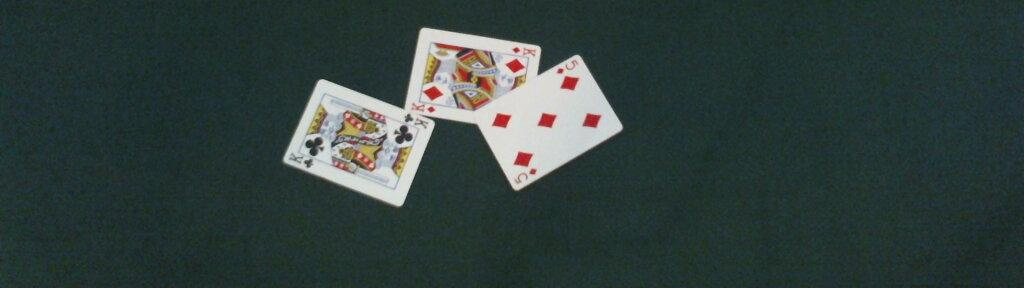five: (472, 55, 624, 191)
king: (279, 79, 436, 208), (404, 28, 542, 124)
